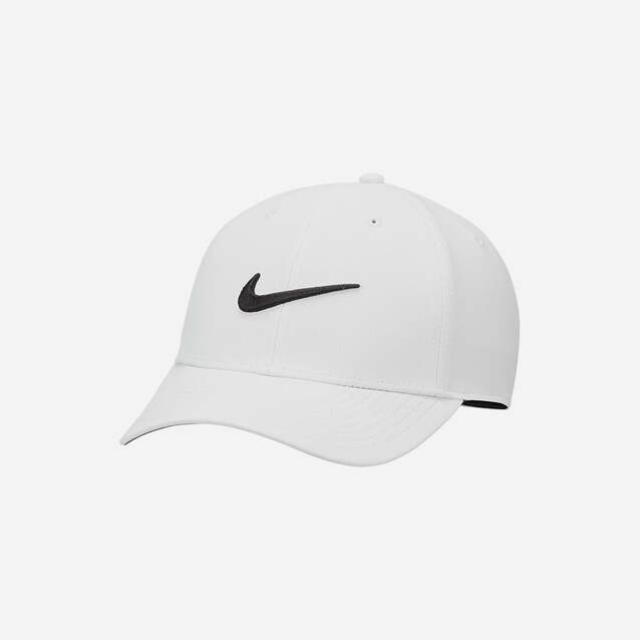Nonhelmet: (116, 168, 525, 470)
